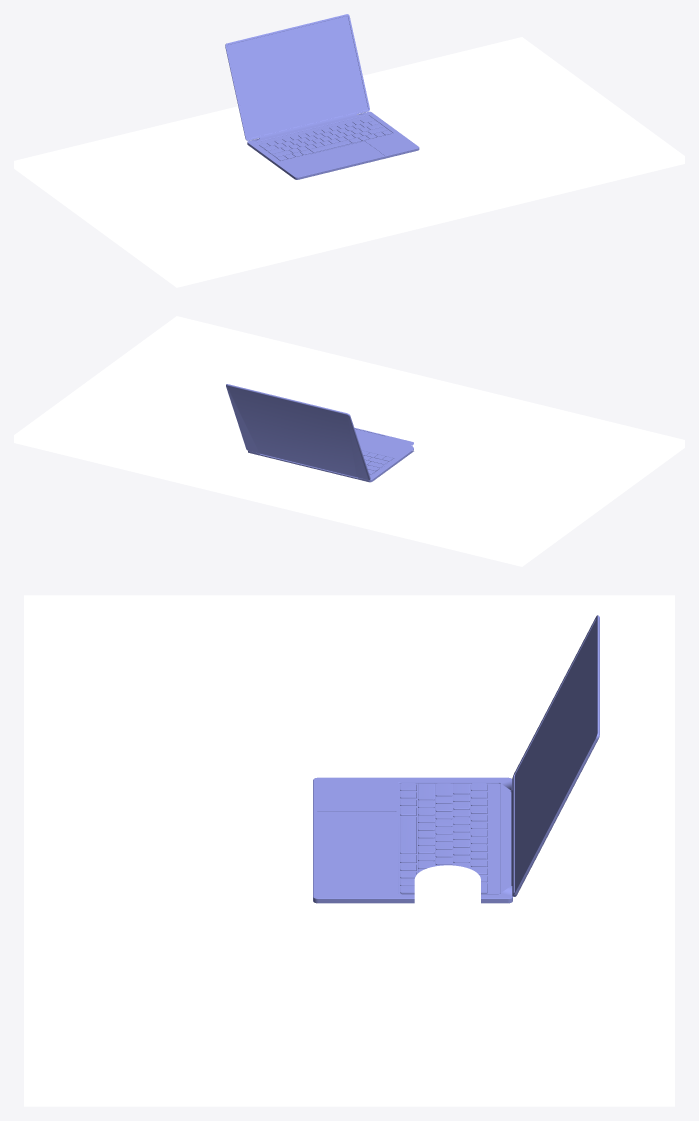
Rendered from order-d2c-draco.gltf.
3 renders of one model, top to bottom at view 1: azimuth 30°, elevation 25°; view 2: azimuth 150°, elevation 25°; view 3: azimuth 270°, elevation 25°, orthographic. The views are drawn at different scales.
Visible parts, largest first — view 1: table.1, screen, base, buttons, mug.1, cactus, pot; view 2: table.1, screen, base, mug.1, cactus, pot, buttons; view 3: table.1, base, screen, buttons, mug.1, cactus, pot.
Part boxes in pixels (x1,y1,x2,y2): table.1: (14, 37, 684, 287); screen: (225, 14, 369, 140); base: (247, 111, 419, 179); buttons: (259, 117, 392, 160); mug.1: (413, 74, 457, 121); cactus: (208, 121, 242, 148); pot: (211, 142, 240, 171); table.1: (14, 316, 684, 566); screen: (226, 384, 370, 480); base: (248, 427, 413, 482); mug.1: (195, 389, 235, 436); cactus: (412, 432, 445, 459); pot: (415, 453, 444, 482); buttons: (361, 450, 392, 474); table.1: (24, 595, 674, 1106); base: (313, 777, 512, 903); screen: (511, 615, 599, 896); buttons: (400, 783, 487, 893); mug.1: (414, 865, 480, 959); cactus: (404, 651, 470, 705); pot: (407, 692, 466, 751).
Bounding box in the file's own units: 139 × 24.15 × 77.31.
